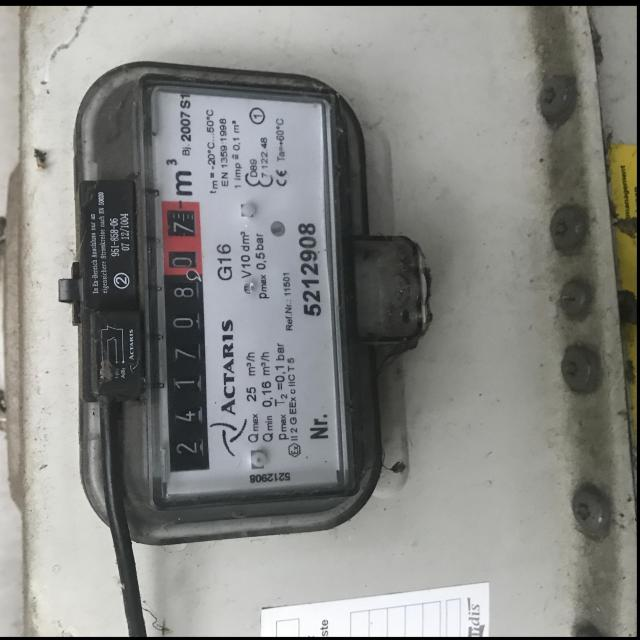gaz_meter: (148, 76, 345, 492)
indication: (157, 200, 213, 474)
